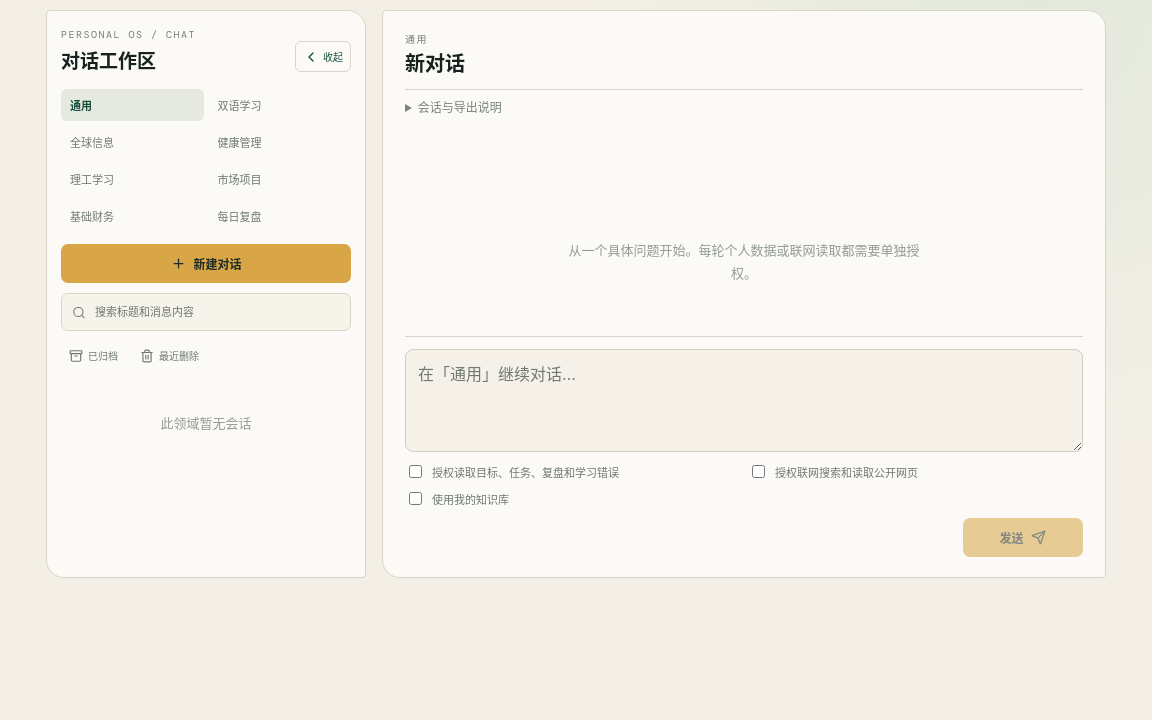
Test case: chat trash lifecycle UI › offers confirmed permanent cleanup for a deleted conversation without touching linked records
Click the button "最近删除".
click(170, 356)  # box [132,341,207,370]
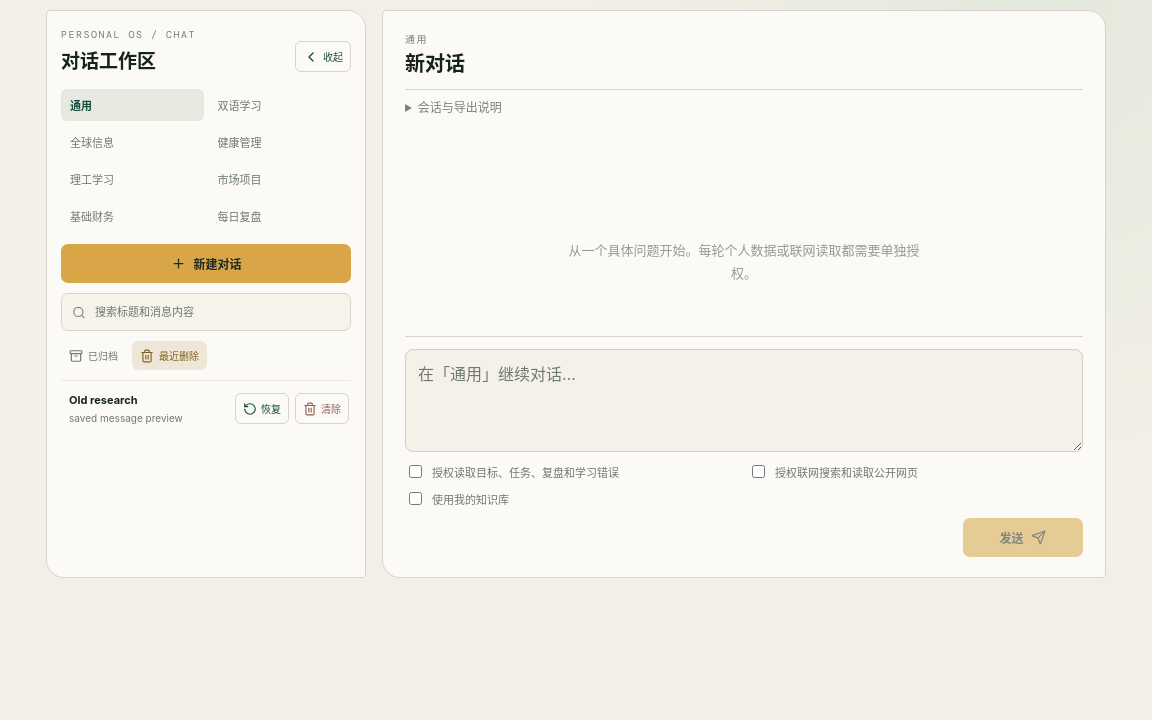
Click the button "清除".
click(322, 408)  # box [295,393,349,424]
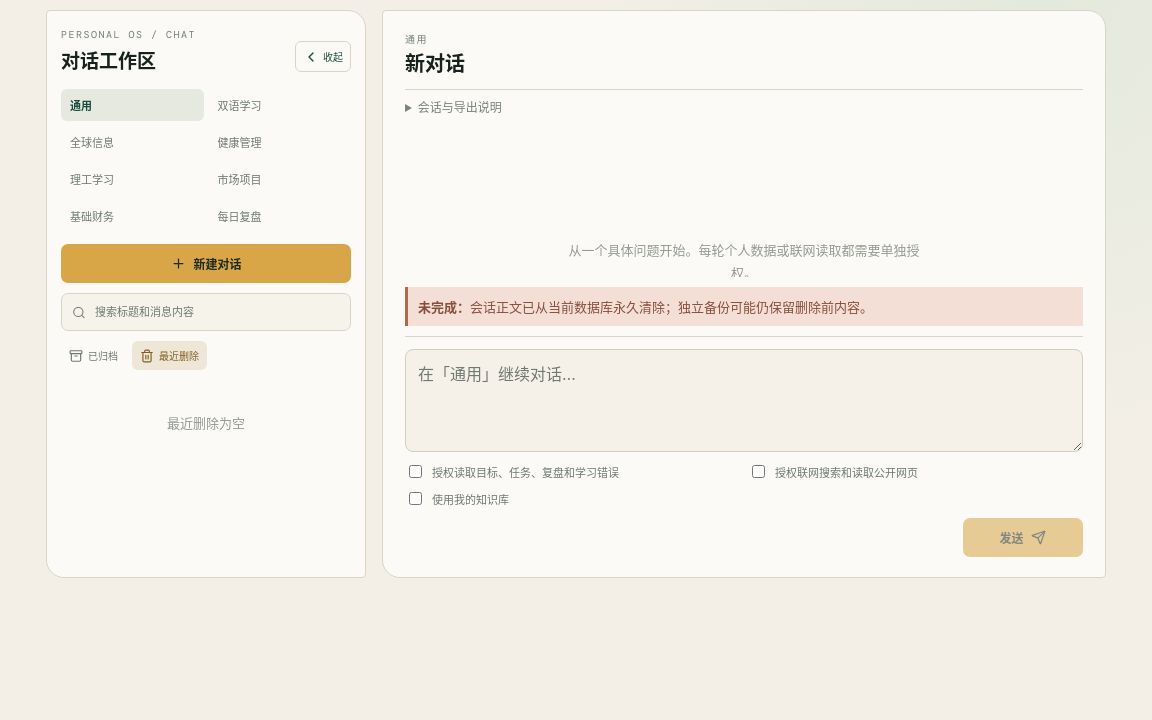
expect the text "未完成：会话正文已从当前数据库永久清除；独立备份可能仍保留删除前内容。" is shown: met, box [405,287,1083,326]
